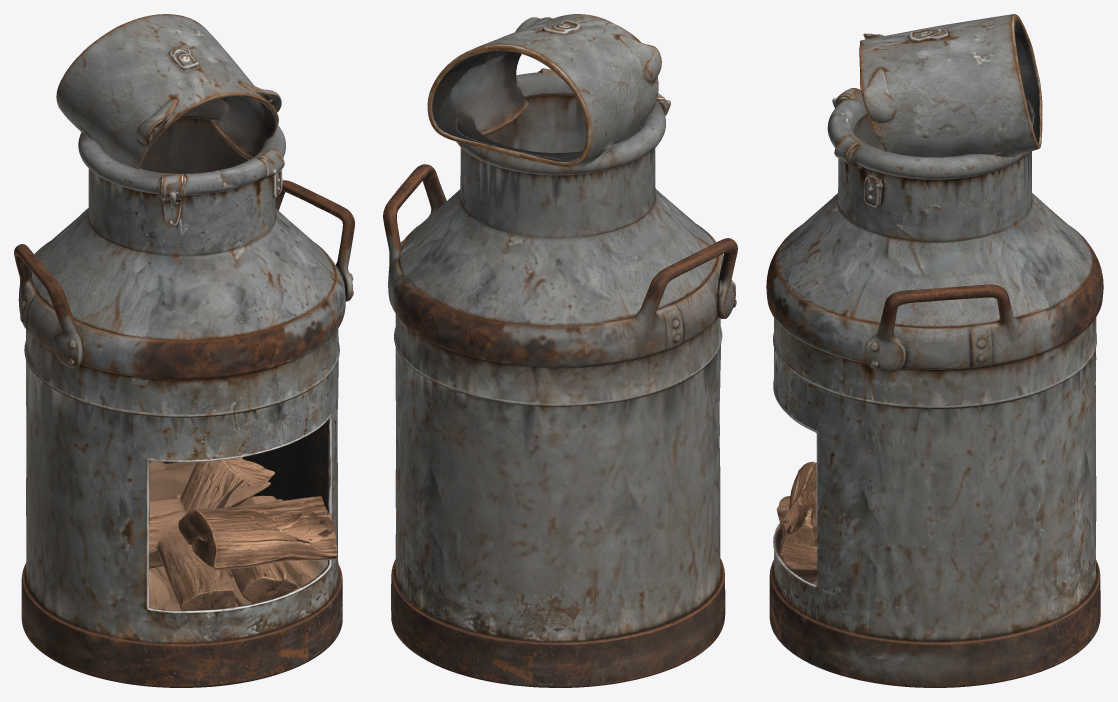
File: burzhuyka-milk-can-v1.glb
3 views of the same model, side by side, from view 1: azimuth 30°, elevation 25°; view 2: azimuth 150°, elevation 25°; view 3: azimuth 270°, elevation 25° (orthographic). The views are drawn at different scales.
Visible parts, largest first — view 1: Physical scale in metres — estimated; view 2: Physical scale in metres — estimated; view 3: Physical scale in metres — estimated.
Part boxes in pixels (x1,y1,x2,y2): Physical scale in metres — estimated: (14,14,354,687); Physical scale in metres — estimated: (383,14,737,687); Physical scale in metres — estimated: (766,14,1103,687).
Bounding box in the file's own units: 0.3747 × 0.68 × 0.3478.
Materials: 1 (1 with a texture image).
